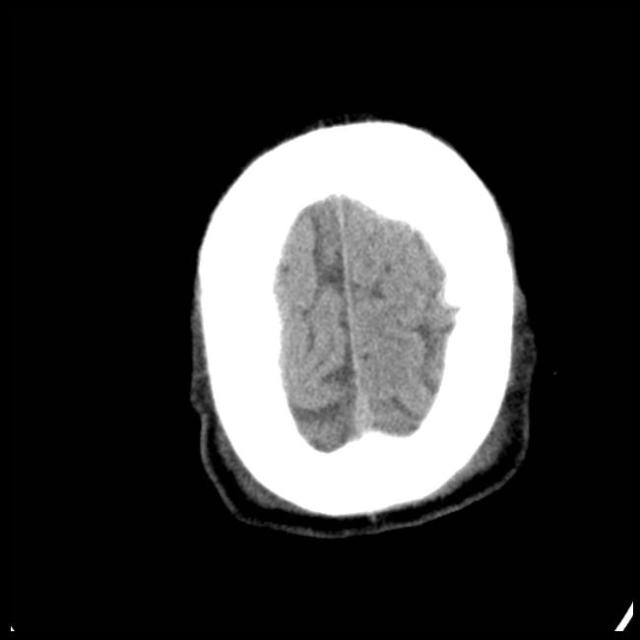lesion: (184, 111, 542, 541)
